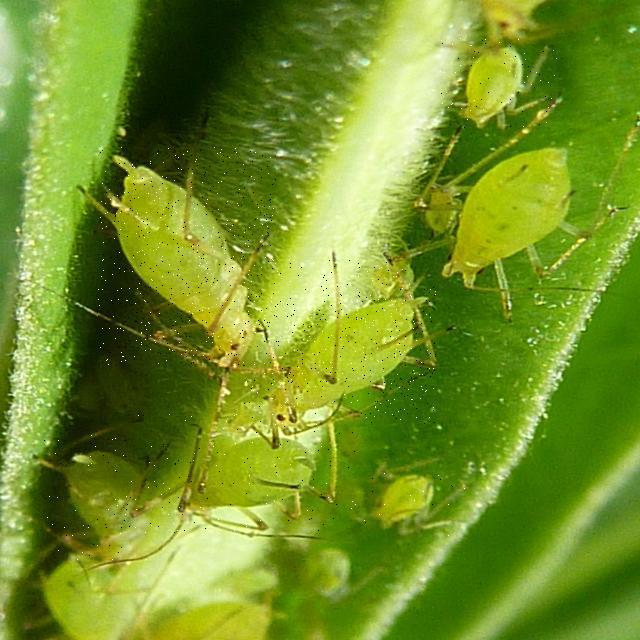aphid: (98, 147, 276, 366), (242, 260, 436, 424), (135, 408, 360, 534), (407, 137, 600, 283), (44, 432, 153, 560), (436, 38, 558, 128), (362, 465, 466, 539)
